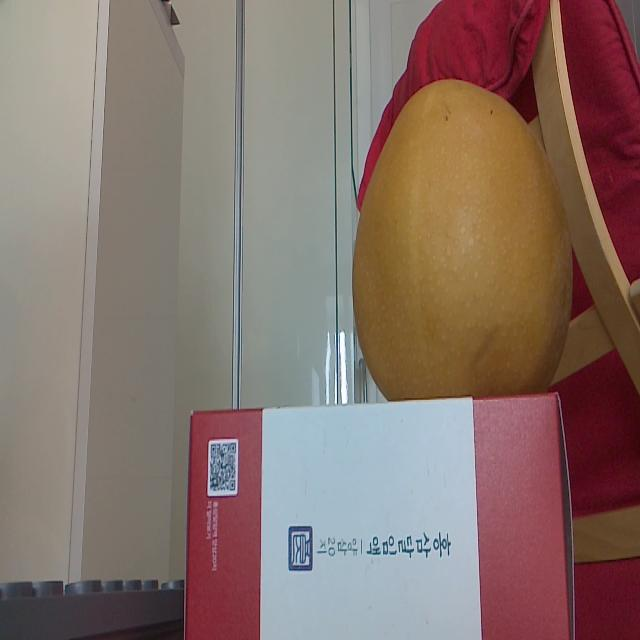pear: (351, 78, 574, 400)
